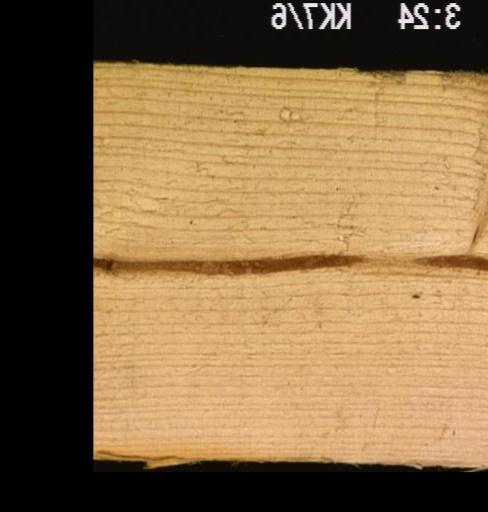wave: (92, 444, 210, 468)
